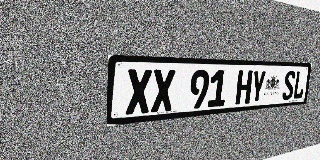1: (208, 70, 227, 107)
9: (189, 70, 210, 109)
H: (235, 70, 253, 105)
L: (292, 71, 306, 99)
S: (282, 71, 296, 100)
X: (126, 69, 152, 115), (151, 69, 175, 113)
Y: (250, 70, 266, 103)
